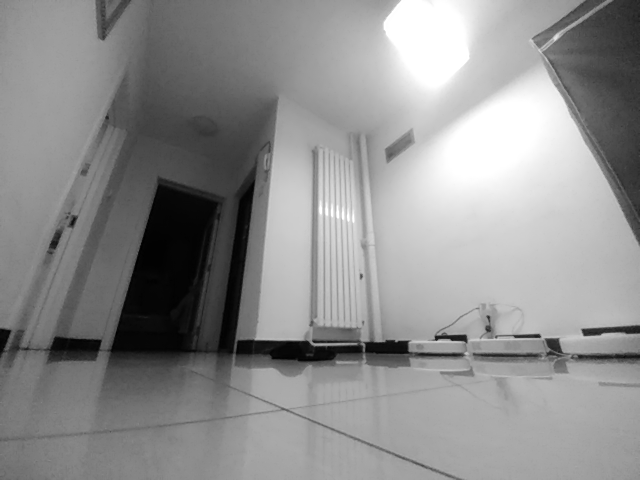others: (270, 340, 336, 364)
